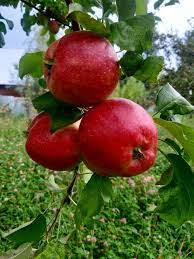tao: (80, 105, 179, 178), (42, 28, 125, 100), (15, 101, 81, 174)
